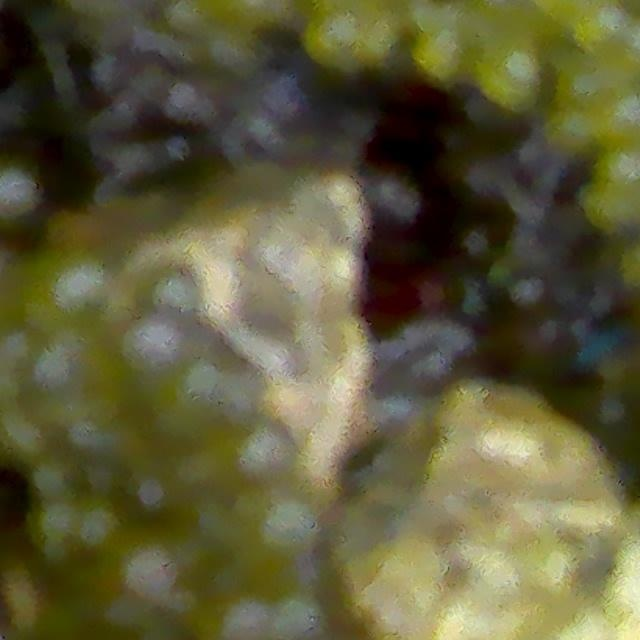SeaGrape: (475, 34, 536, 108), (304, 4, 362, 73), (409, 25, 463, 84), (0, 169, 38, 220)
